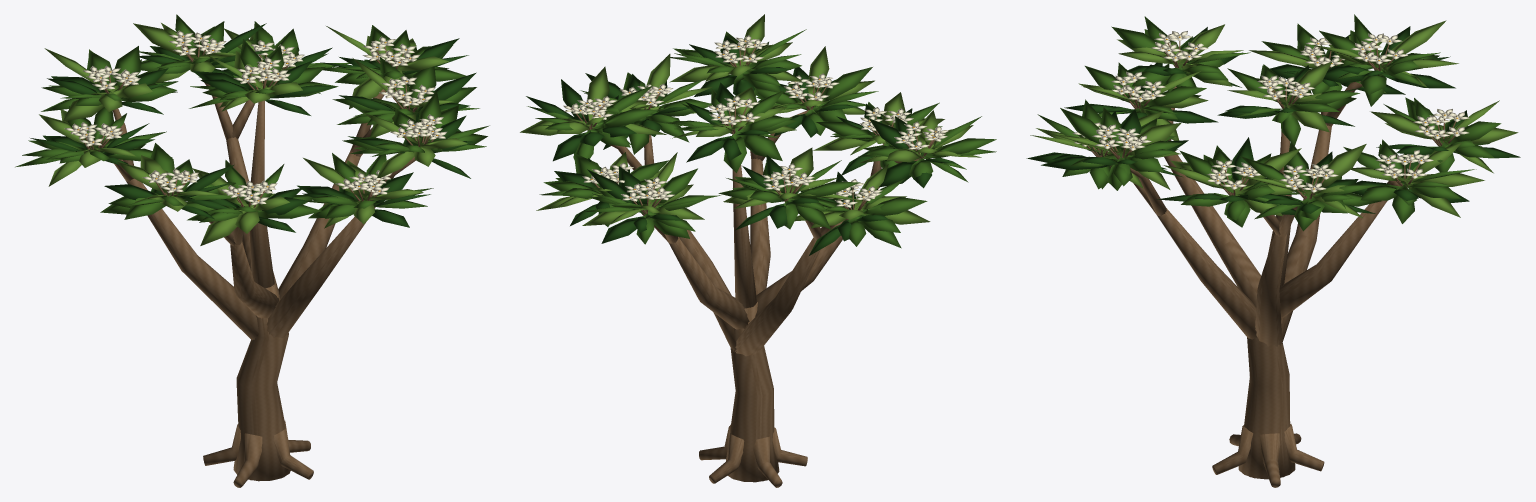
File: MV_Tree_Kamboja_3m.fbx
3 renders of one model, left to right at view 1: azimuth 30°, elevation 25°; view 2: azimuth 150°, elevation 25°; view 3: azimuth 270°, elevation 25°, orthographic. The views are drawn at different scales.
Parts seen in each view (by area): view 1: LOD0_Mesh, LOD1_Mesh, LOD2_Mesh; view 2: LOD0_Mesh, LOD1_Mesh, LOD2_Mesh; view 3: LOD0_Mesh, LOD1_Mesh, LOD2_Mesh.
Part boxes in pixels (x1,y1,x2,y2): LOD0_Mesh: [15, 14, 489, 487]; LOD1_Mesh: [73, 36, 442, 487]; LOD2_Mesh: [110, 42, 414, 485]; LOD0_Mesh: [520, 14, 996, 487]; LOD1_Mesh: [576, 35, 948, 487]; LOD2_Mesh: [576, 61, 920, 487]; LOD0_Mesh: [1026, 14, 1520, 487]; LOD1_Mesh: [1072, 33, 1457, 486]; LOD2_Mesh: [1133, 60, 1451, 487].
Size of the model in its own units: 3.35 by 3 by 3.42.
